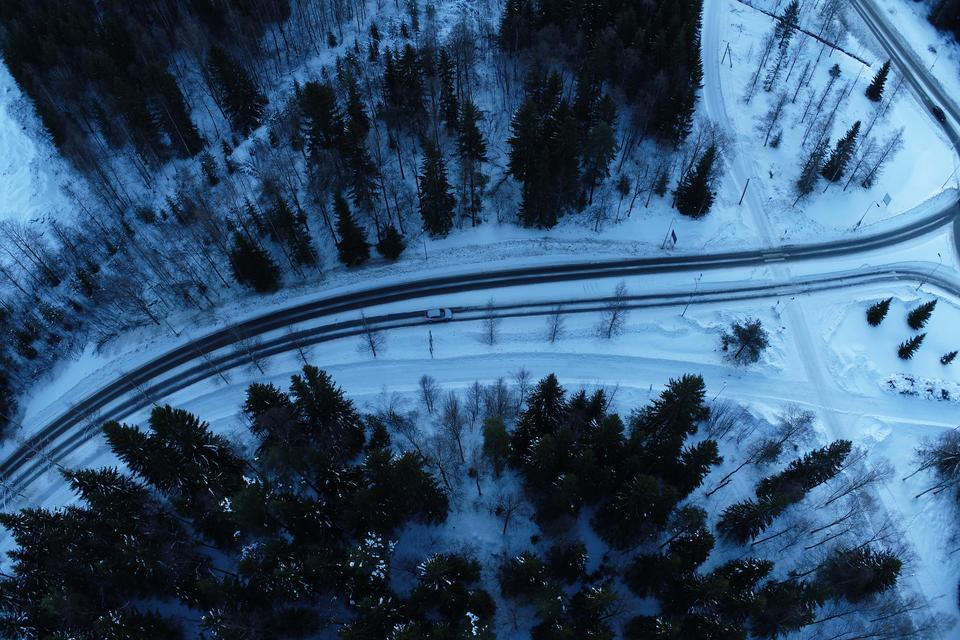intersection: (726, 218, 830, 324)
